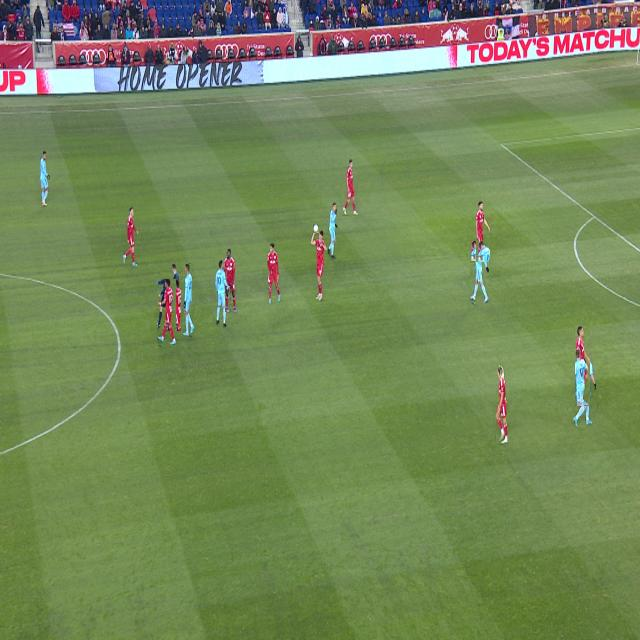football: (313, 224, 319, 233)
player: (574, 350, 597, 427), (158, 279, 176, 345), (470, 242, 489, 303), (576, 326, 590, 406), (311, 231, 327, 301), (215, 261, 231, 327), (496, 365, 508, 444), (123, 208, 138, 266), (476, 202, 490, 262), (343, 159, 358, 215), (183, 264, 194, 336), (267, 243, 280, 303), (224, 249, 236, 312), (40, 151, 50, 206), (327, 204, 337, 259), (226, 287, 230, 312)
referee: (162, 264, 181, 331)
